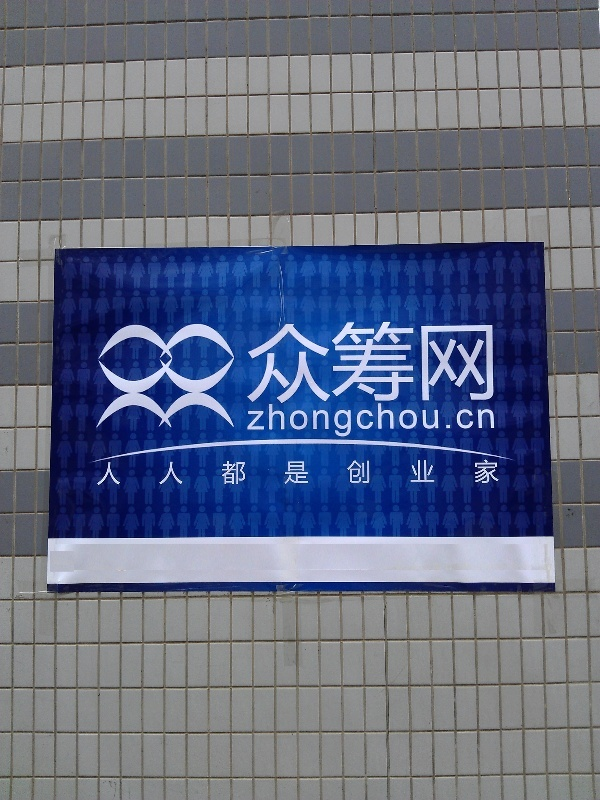text: (257, 318, 272, 406), (273, 318, 288, 406), (289, 318, 304, 406), (305, 318, 320, 406), (321, 318, 336, 406), (337, 318, 352, 406), (353, 318, 368, 406), (369, 318, 384, 406), (385, 318, 400, 406), (401, 318, 416, 406), (417, 318, 432, 406), (433, 318, 448, 406), (449, 318, 464, 406), (465, 318, 480, 406), (481, 318, 496, 406), (245, 318, 256, 406), (481, 402, 497, 439), (257, 402, 272, 439), (273, 402, 288, 439), (289, 402, 304, 439), (305, 402, 320, 439), (321, 402, 336, 439), (337, 402, 352, 439), (353, 402, 368, 439), (369, 402, 384, 439), (385, 402, 400, 439), (401, 402, 416, 439), (417, 402, 432, 439), (433, 402, 448, 439), (449, 402, 464, 439), (465, 402, 480, 439), (97, 458, 112, 487), (113, 458, 128, 487), (129, 458, 144, 487), (145, 458, 160, 487), (161, 458, 176, 487), (177, 458, 192, 487), (193, 458, 208, 487), (209, 458, 224, 487), (225, 458, 240, 487), (241, 458, 256, 487), (257, 458, 272, 487), (273, 458, 288, 487), (289, 458, 304, 487), (305, 458, 320, 487), (321, 458, 336, 487), (337, 458, 352, 487), (353, 458, 368, 487), (369, 458, 384, 487), (385, 458, 400, 487), (401, 458, 416, 487), (417, 458, 432, 487), (433, 458, 448, 487), (449, 458, 464, 487), (465, 458, 480, 487), (481, 458, 496, 487), (247, 402, 256, 439), (497, 458, 501, 487), (497, 318, 498, 406)
